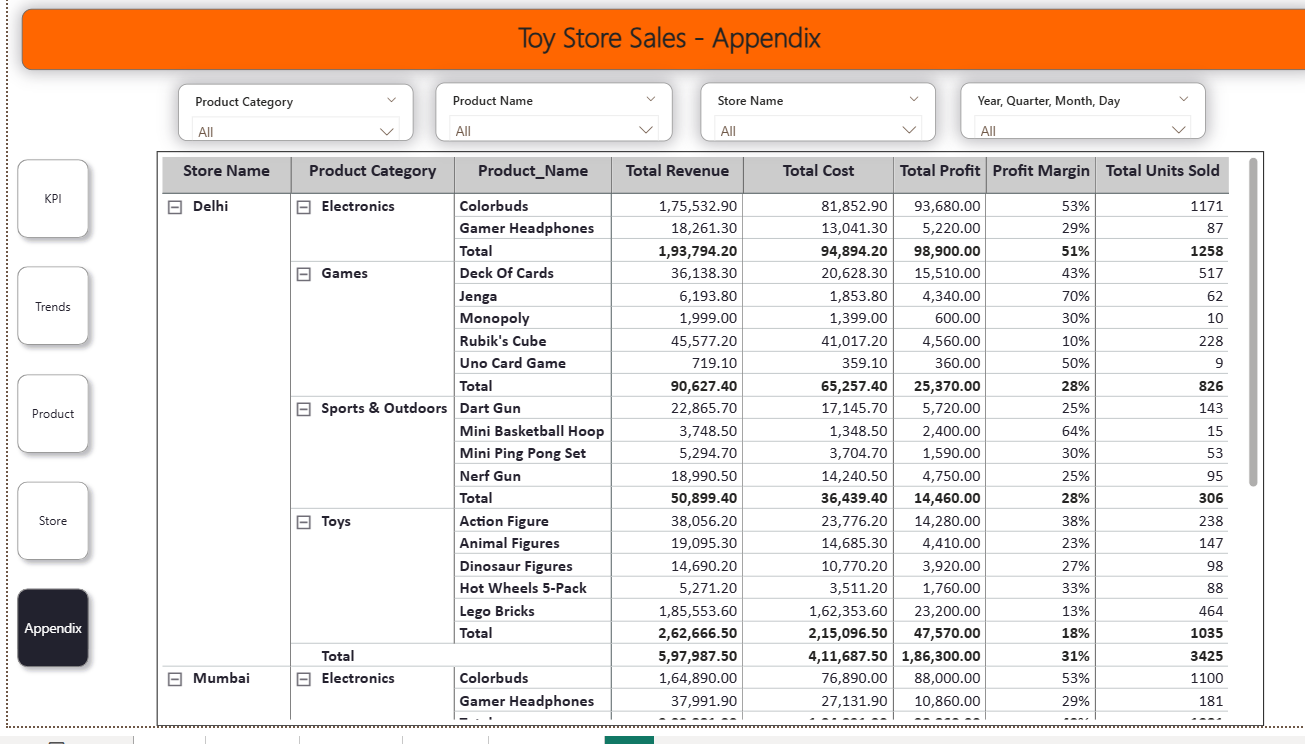

The page's visual inventory and layout, read from the dashboard file:
{"tool":"powerbi","page":{"name":"Appendix","canvas":[1280,720],"ordinal":4},"visuals":[{"type":"pivotTable","fields":{"Rows":["Dim_store.Store_Name","Dim_products.Product_Category","Dim_products.Product_Name"],"Values":["DaxMeasures.Total Revenue","DaxMeasures.Total Cost","DaxMeasures.Total Profit","DaxMeasures.Profit Margin","Sum(Fact_sales.Units)"]},"box":[145.5,157.7,1083.4,562.5],"z":0},{"type":"textbox","box":[13.3,18.2,1267.2,59.6],"z":1000},{"type":"slicer","fields":{"Values":["Dim_products.Product_Category"]},"box":[166.3,91.6,230.2,56.3],"z":1000,"group":"g1"},{"type":"group","id":"g1","title":"Group 2","box":[166.3,90.5,740.8,57.5],"z":2000},{"type":"slicer","fields":{"Values":["Dim_products.Product_Name"]},"box":[418.2,90.5,231.9,57.5],"z":2000,"group":"g1"},{"type":"slicer","fields":{"Values":["Dim_store.Store_Name"]},"box":[676.8,90.5,230.2,57.5],"z":3000,"group":"g1"},{"type":"pageNavigator","box":[0,156.8,88.1,517.6],"z":3000},{"type":"slicer","fields":{"Values":["Fact_sales.Date.Variation.Date Hierarchy.Year","Fact_sales.Date.Variation.Date Hierarchy.Quarter","Fact_sales.Date.Variation.Date Hierarchy.Month","Fact_sales.Date.Variation.Date Hierarchy.Day"]},"box":[931.8,90.5,239.7,55],"z":4000}]}

Visuals, with their boxes on the page's 1280x720 design canvas (x1, y1, x2, y2). These are canvas units, not pixel positions in the 1305x744 screenshot, which may show the page scaled, cropped or inside an application window:
pivotTable - Dim_store.Store_Name x Dim_products.Product_Category: x1=146 y1=158 x2=1229 y2=720
textbox: x1=13 y1=18 x2=1280 y2=78
slicer - Dim_products.Product_Category: x1=166 y1=92 x2=396 y2=148
"Group 2" group: x1=166 y1=90 x2=907 y2=148
slicer - Dim_products.Product_Name: x1=418 y1=90 x2=650 y2=148
slicer - Dim_store.Store_Name: x1=677 y1=90 x2=907 y2=148
pageNavigator: x1=0 y1=157 x2=88 y2=674
slicer - Fact_sales.Date.Variation.Date Hierarchy.Year x Fact_sales.Date.Variation.Date Hierarchy.Quarter: x1=932 y1=90 x2=1172 y2=146
